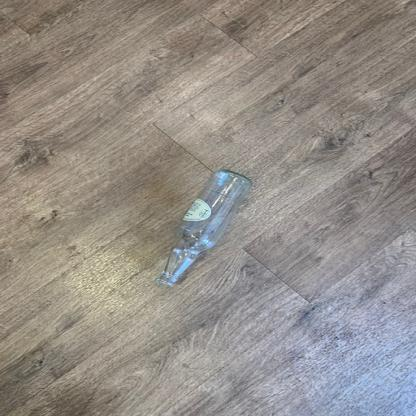trash: (158, 166, 256, 291)
